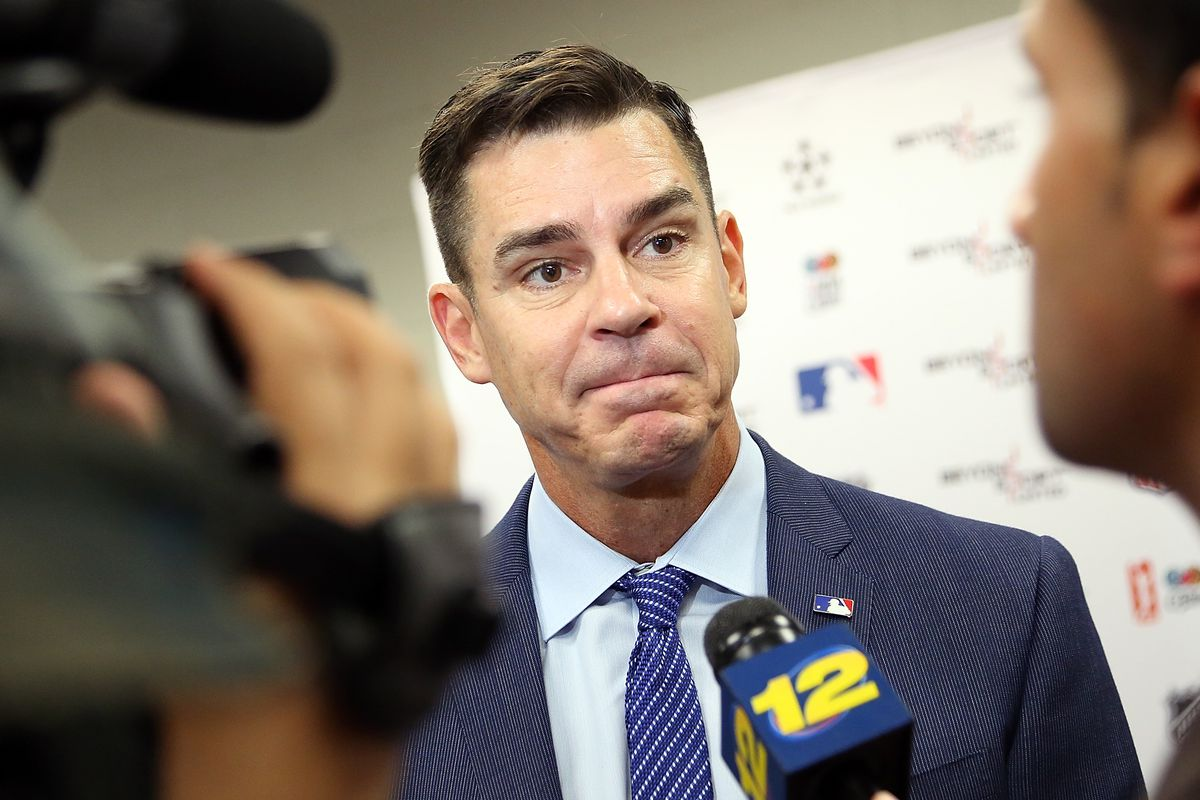bare: (475, 290, 740, 468)
